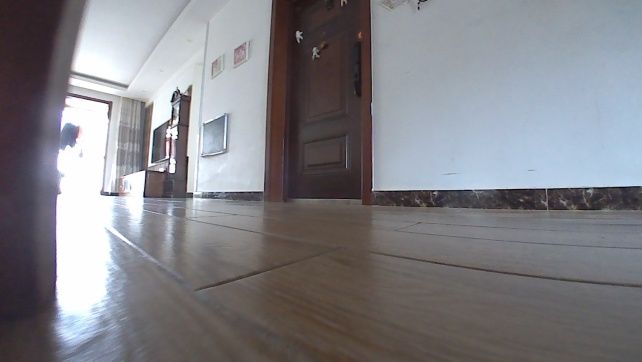door_anno: (260, 0, 373, 206)
